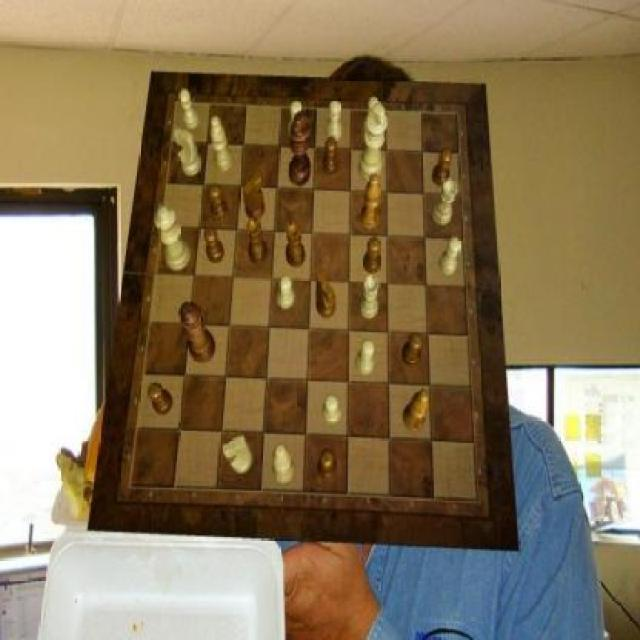bishop: (360, 174, 381, 230), (403, 389, 429, 432)
black-bishop: (289, 110, 312, 186)
black-king: (243, 174, 266, 220), (317, 272, 337, 318)
black-knight: (149, 383, 174, 415), (432, 148, 452, 188), (209, 185, 229, 222), (204, 226, 224, 262), (403, 332, 423, 367), (317, 449, 337, 482), (363, 238, 381, 274), (323, 137, 339, 177)
black-pawn: (180, 301, 217, 364)
black-queen: (248, 219, 268, 266), (286, 222, 306, 268)
black-rook: (211, 116, 234, 172), (272, 444, 296, 484)
white-bishop: (358, 103, 388, 181)
white-king: (174, 128, 201, 177), (223, 435, 253, 474)
white-knight: (178, 89, 200, 129), (440, 237, 463, 275), (363, 97, 380, 138), (326, 100, 342, 142), (356, 338, 374, 374), (277, 275, 295, 310), (288, 100, 304, 138), (323, 394, 341, 424)
white-pawn: (154, 205, 191, 270)
white-queen: (432, 180, 458, 226), (358, 276, 379, 320)
